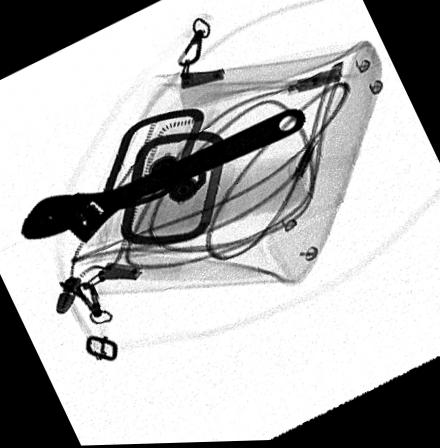Wrench: (20, 107, 310, 243)
